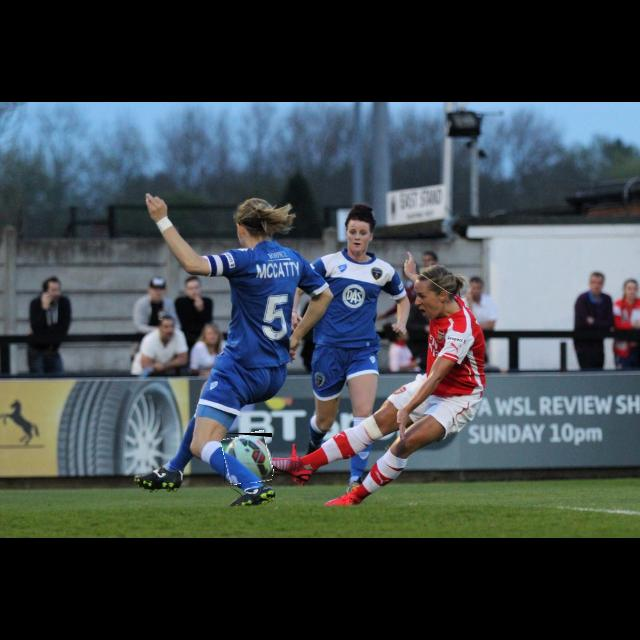Football: (224, 433, 272, 483)
